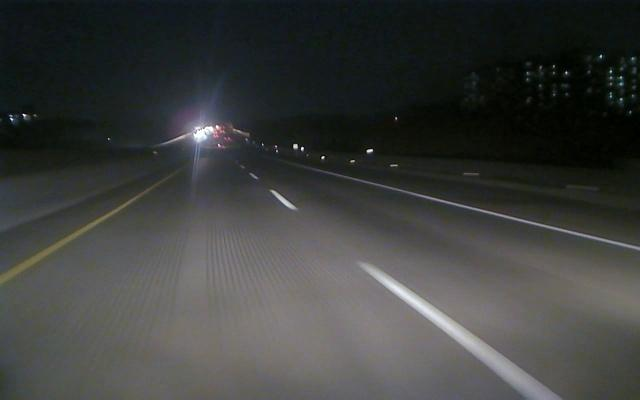lane: (268, 186, 568, 400), (324, 170, 640, 252), (3, 192, 143, 284)
